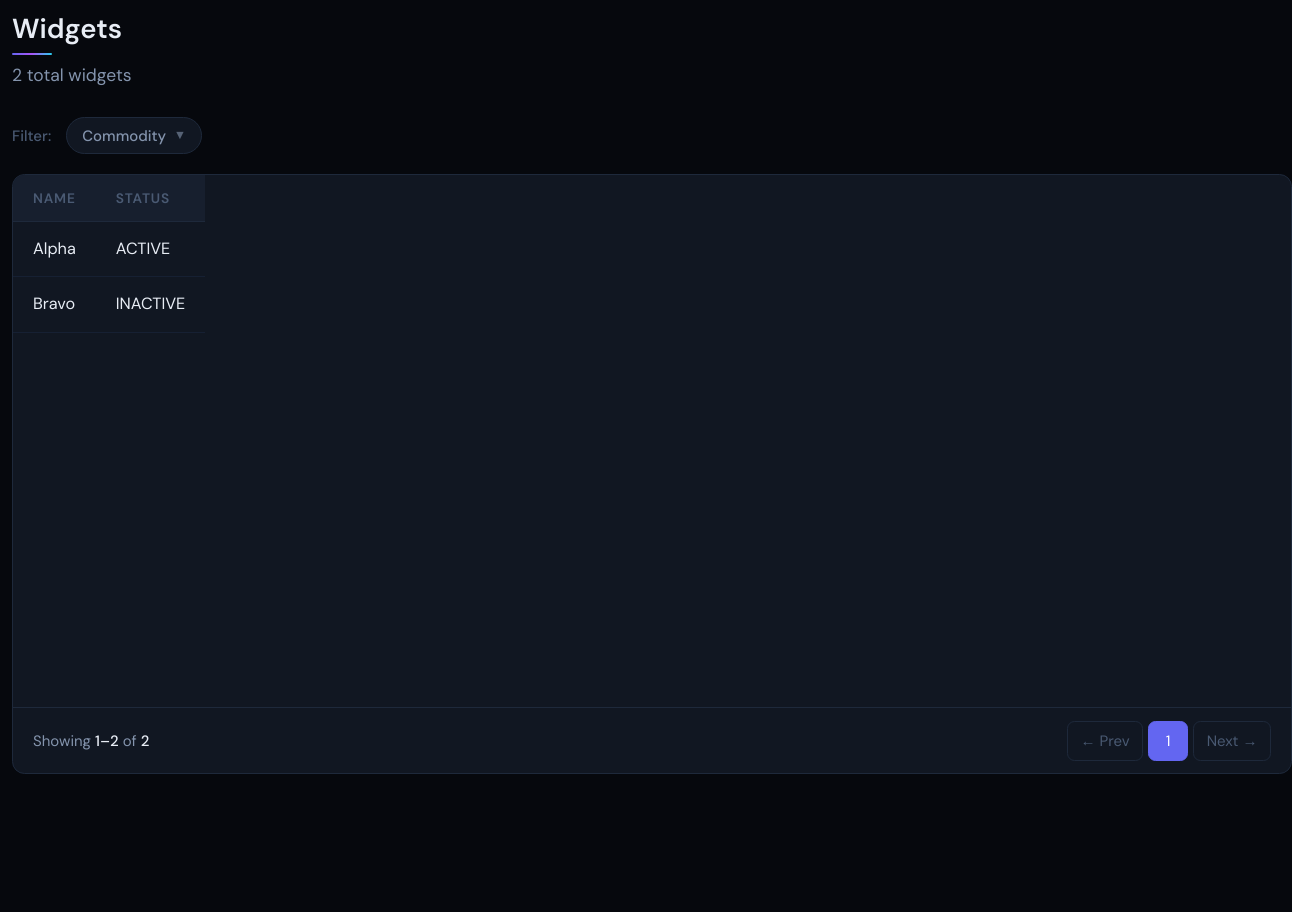
Test case: EntityListPage › fetches dynamic filter options from the configured endpoint and populates the pill
Open the pill and confirm fetched options are shown
Click the button "Commodity ▼" at [134, 136], box x1=66 y1=117 x2=202 y2=154
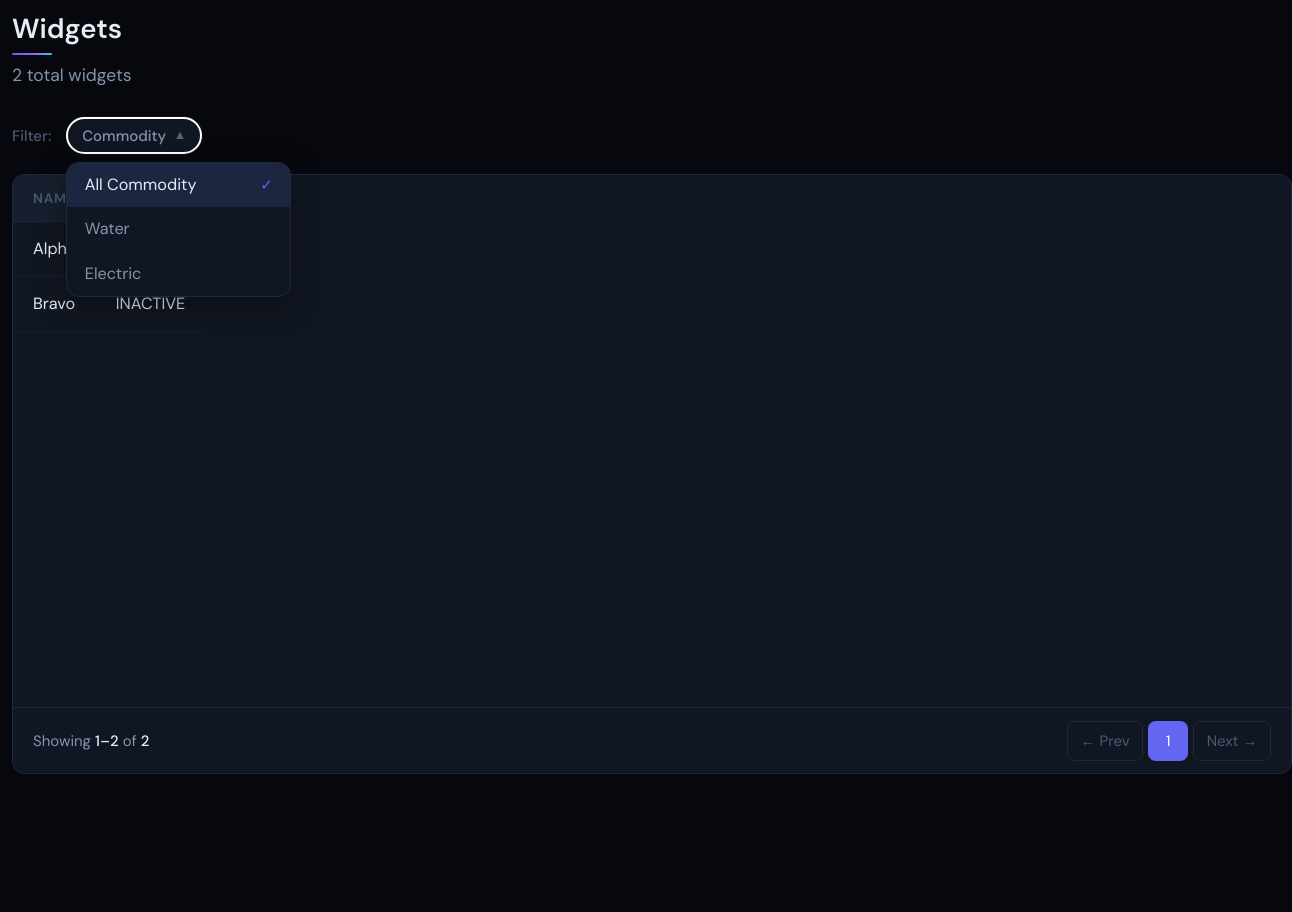
Expected: the text "Water" is shown, x1=85 y1=217 x2=130 y2=242
Expected: the text "Electric" is shown, x1=85 y1=262 x2=141 y2=286
